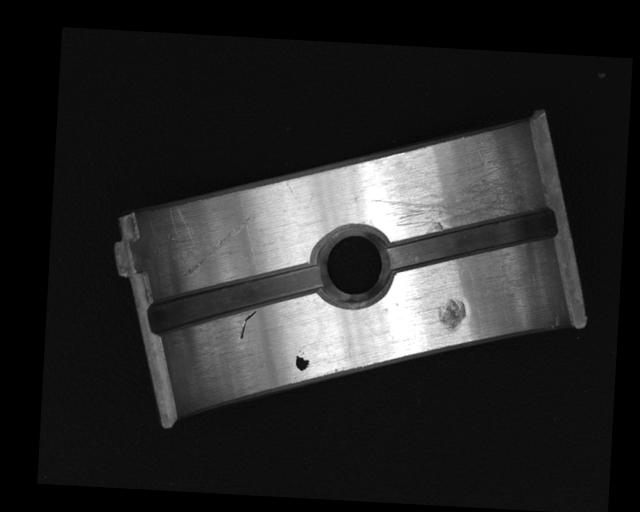blot: (294, 349, 310, 372)
bruise: (435, 296, 467, 332)
gap: (148, 256, 321, 344), (382, 200, 558, 280)
hole: (314, 223, 393, 307)
nick: (180, 207, 256, 282), (239, 308, 256, 341)
scratch: (366, 147, 549, 241)
